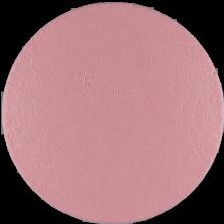50436-7379: (0, 0, 224, 224)
